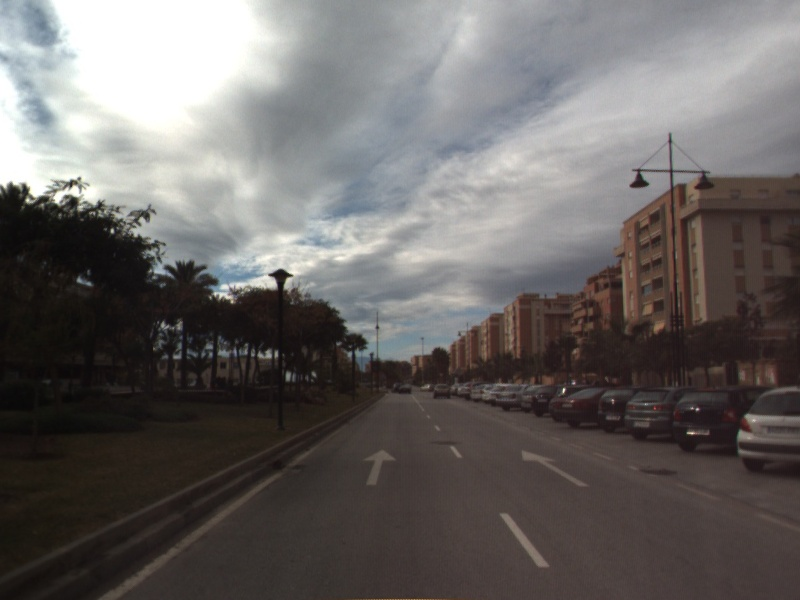STRAIGHT: (520, 448, 592, 488), (361, 447, 398, 487)
